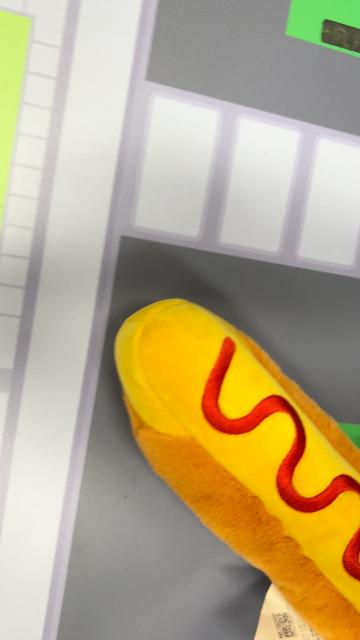hotdog: (113, 296, 359, 638)
